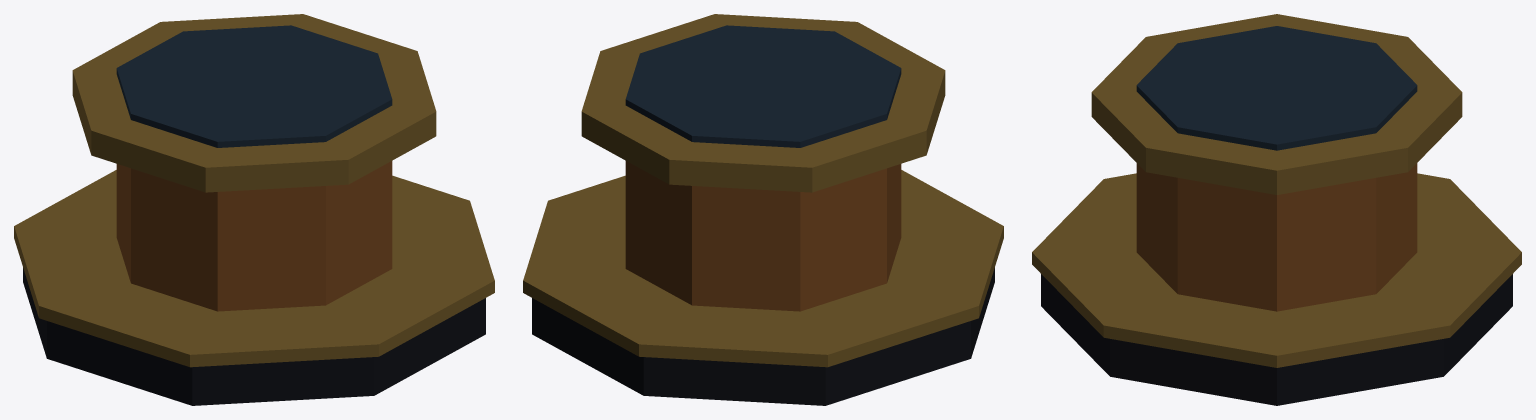
Rendered from vmt_phase_a_crystal_pedestal_dormant.obj.
The picture shows the model from 3 angles, left to right: view 1: azimuth 30°, elevation 25°; view 2: azimuth 150°, elevation 25°; view 3: azimuth 270°, elevation 25°; orthographic projection.
Visible parts, largest first — view 1: VMT_PhaseA_CrystalPedestal_Dormant; view 2: VMT_PhaseA_CrystalPedestal_Dormant; view 3: VMT_PhaseA_CrystalPedestal_Dormant.
Boxes of the visible parts, left/top/right/bottom form: VMT_PhaseA_CrystalPedestal_Dormant: left=14, top=14, right=494, bottom=405; VMT_PhaseA_CrystalPedestal_Dormant: left=523, top=14, right=1003, bottom=405; VMT_PhaseA_CrystalPedestal_Dormant: left=1032, top=14, right=1521, bottom=405.
Size of the model in its own units: 4.36 by 2.17 by 4.36.
